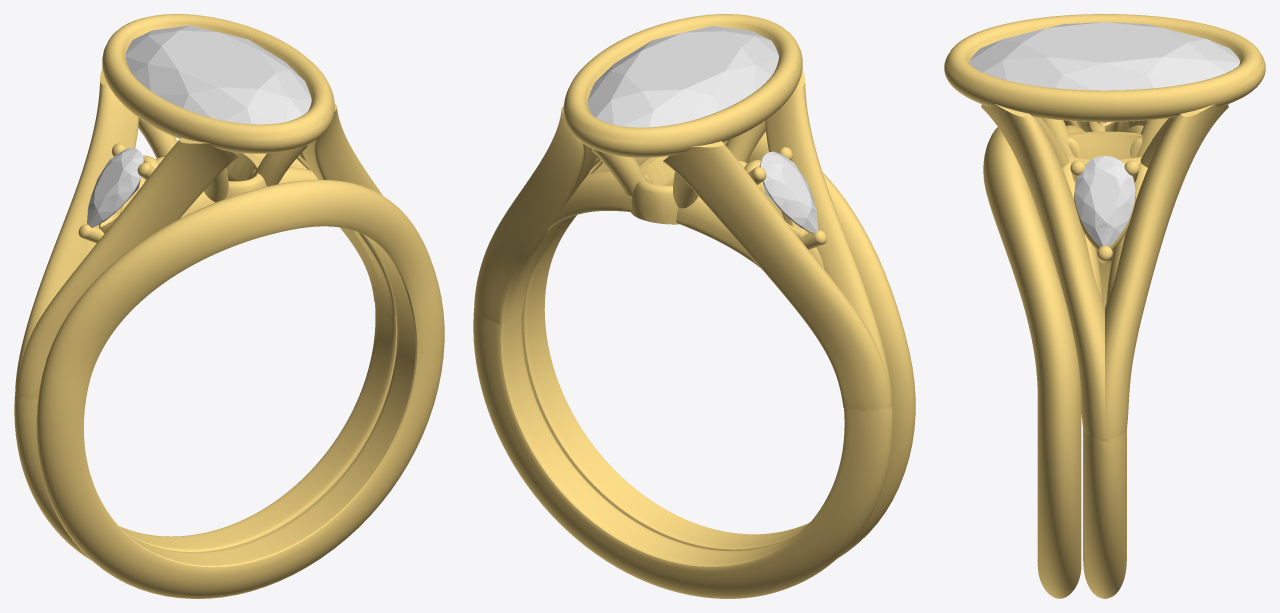
The model's file is MichaelYGbothEngWb_blender.glb.
3 renders of one model, left to right at view 1: azimuth 30°, elevation 25°; view 2: azimuth 150°, elevation 25°; view 3: azimuth 270°, elevation 25°, orthographic. The views are drawn at different scales.
Visible parts, largest first — view 1: Michael both YG for 3d model, Michael center dia for 3d model, Michael pear dia for 3d model.001; view 2: Michael both YG for 3d model, Michael center dia for 3d model, Michael pear dia for 3d model.001; view 3: Michael both YG for 3d model, Michael center dia for 3d model, Michael pear dia for 3d model.
Boxes of the visible parts, x1=… form: Michael both YG for 3d model: x1=14, y1=14, x2=444, y2=598; Michael center dia for 3d model: x1=125, y1=25, x2=311, y2=124; Michael pear dia for 3d model.001: x1=87, y1=148, x2=143, y2=227; Michael both YG for 3d model: x1=473, y1=14, x2=915, y2=598; Michael center dia for 3d model: x1=587, y1=25, x2=778, y2=127; Michael pear dia for 3d model.001: x1=760, y1=151, x2=818, y2=233; Michael both YG for 3d model: x1=944, y1=14, x2=1265, y2=598; Michael center dia for 3d model: x1=969, y1=22, x2=1240, y2=122; Michael pear dia for 3d model: x1=1074, y1=156, x2=1135, y2=246.
Size of the model in its own units: 19.9 by 24.27 by 13.25.
